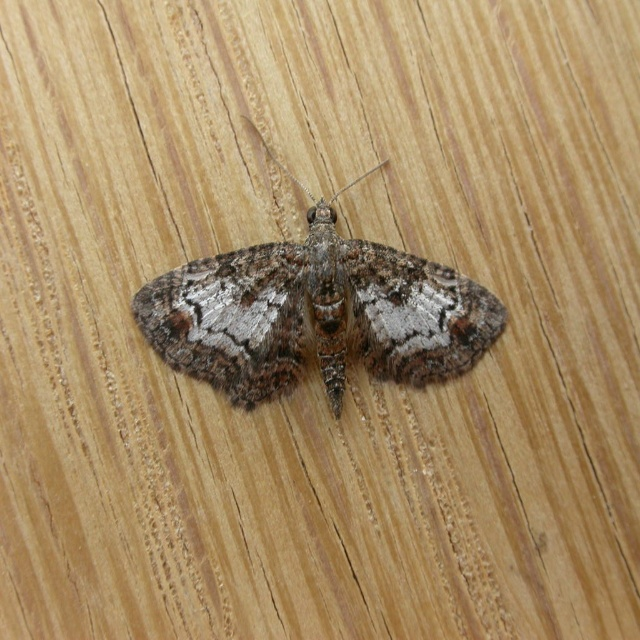Butterfly: (129, 137, 478, 457)
